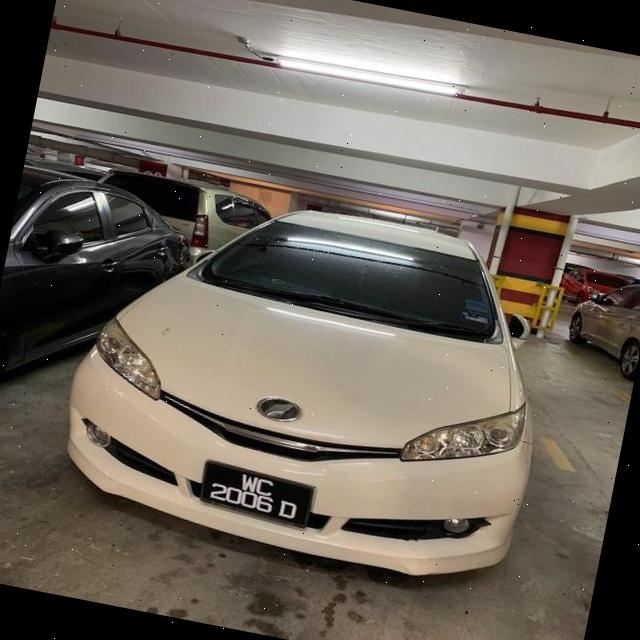License_Plate: (194, 452, 322, 534)
car: (46, 157, 583, 615)
